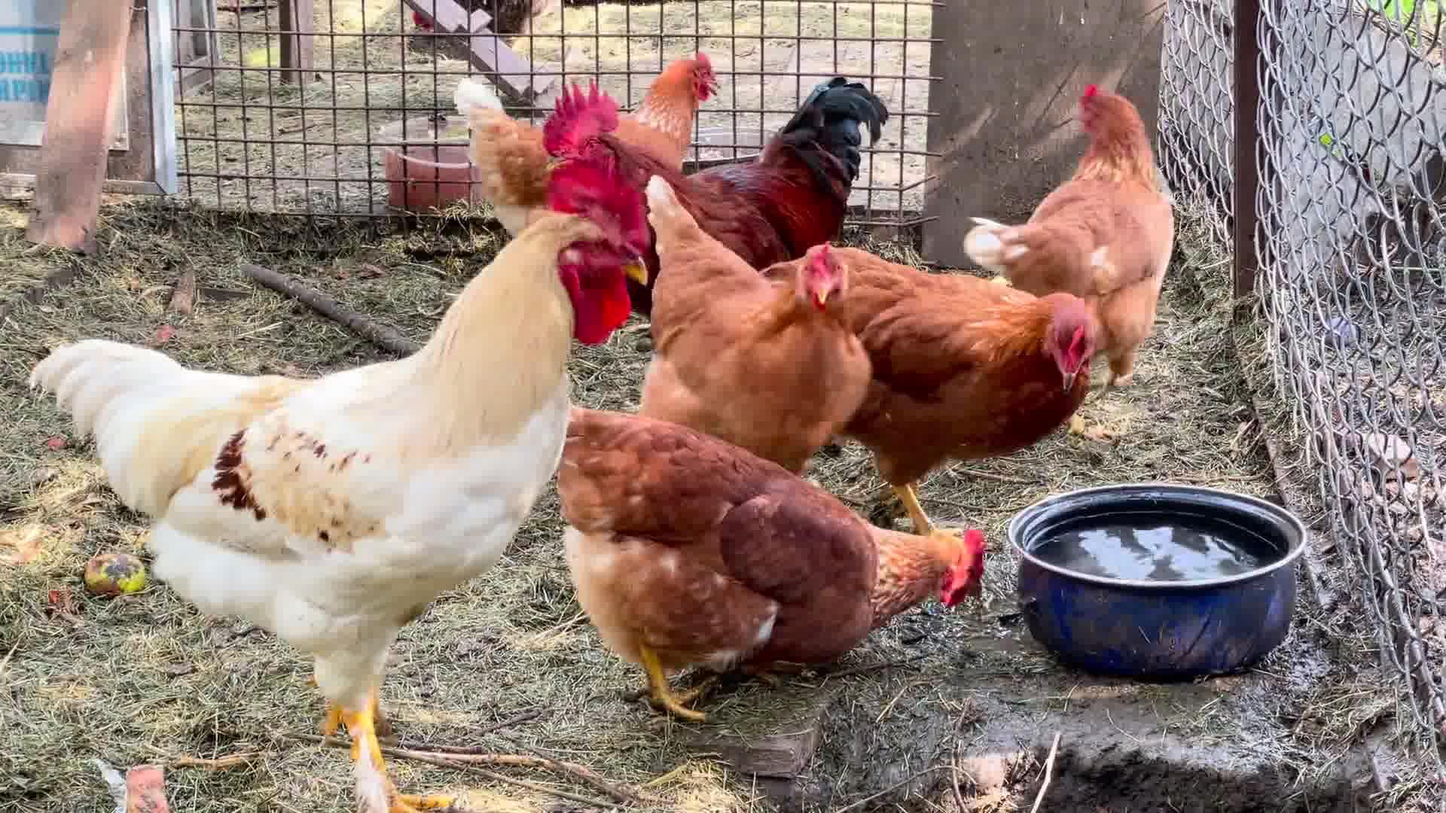Normal: (34, 134, 662, 813), (575, 399, 1001, 730), (469, 59, 899, 307), (981, 81, 1212, 396), (637, 177, 881, 471)
